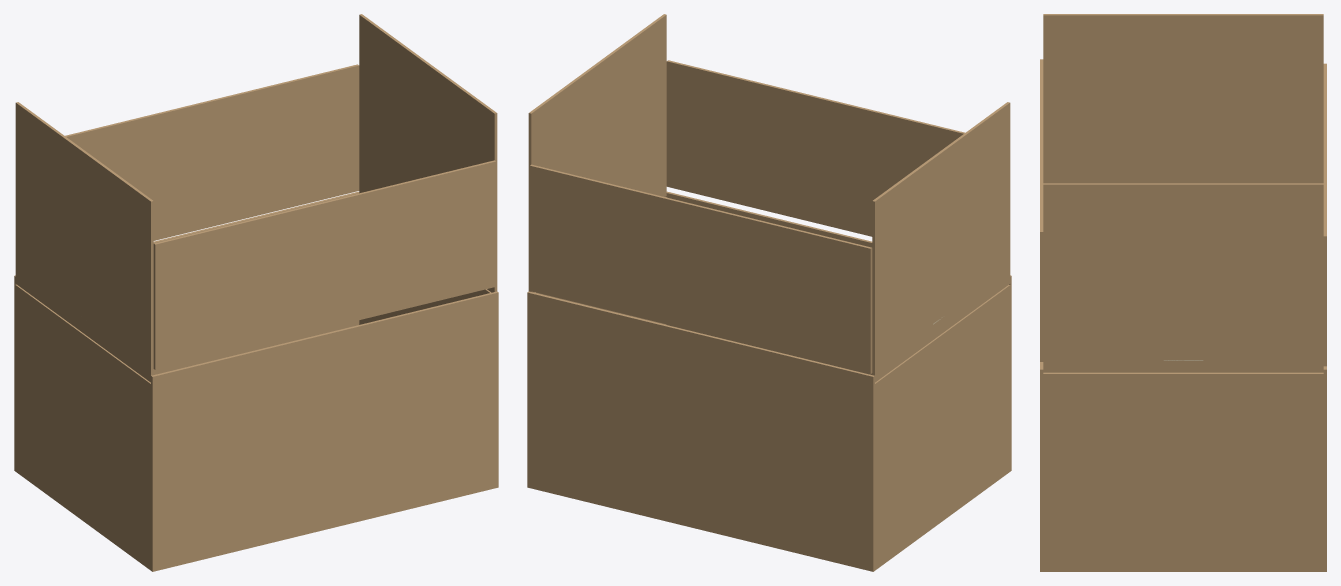
Rendered from carton-template.glb.
The picture shows the model from 3 angles, left to right: view 1: azimuth 30°, elevation 25°; view 2: azimuth 150°, elevation 25°; view 3: azimuth 270°, elevation 25°; orthographic projection. The views are drawn at different scales.
Parts seen in each view (by area): view 1: TCAS_concept_case_longwall-1, TCAS_concept_flap_y_minus, TCAS_concept_flap_y_plus, TCAS_concept_flap_x_minus, TCAS_concept_case_endwall-1, TCAS_concept_flap_x_plus, TCAS_concept_case_base, TCAS_concept_case_longwall1, TCAS_concept_case_endwall1; view 2: TCAS_concept_case_longwall1, TCAS_concept_flap_y_plus, TCAS_concept_flap_y_minus, TCAS_concept_flap_x_minus, TCAS_concept_case_endwall-1, TCAS_concept_flap_x_plus, TCAS_concept_case_base, TCAS_concept_case_longwall-1; view 3: TCAS_concept_case_endwall1, TCAS_concept_flap_x_plus, TCAS_concept_flap_x_minus, TCAS_concept_case_base, TCAS_concept_flap_y_plus, TCAS_concept_flap_y_minus, TCAS_concept_case_longwall-1, TCAS_concept_case_longwall1.
Boxes of the visible parts, bbox=[...] form: TCAS_concept_case_longwall-1: bbox=[151, 291, 498, 567]; TCAS_concept_flap_y_minus: bbox=[153, 160, 495, 369]; TCAS_concept_flap_y_plus: bbox=[65, 64, 359, 240]; TCAS_concept_flap_x_minus: bbox=[15, 102, 153, 382]; TCAS_concept_case_endwall-1: bbox=[15, 285, 150, 566]; TCAS_concept_flap_x_plus: bbox=[359, 14, 497, 292]; TCAS_concept_case_base: bbox=[14, 467, 498, 571]; TCAS_concept_case_longwall1: bbox=[14, 191, 359, 467]; TCAS_concept_case_endwall1: bbox=[359, 289, 491, 324]; TCAS_concept_case_longwall1: bbox=[527, 291, 874, 567]; TCAS_concept_flap_y_plus: bbox=[530, 164, 872, 373]; TCAS_concept_flap_y_minus: bbox=[666, 60, 964, 236]; TCAS_concept_flap_x_minus: bbox=[872, 102, 1010, 382]; TCAS_concept_case_endwall-1: bbox=[875, 285, 1010, 566]; TCAS_concept_flap_x_plus: bbox=[528, 14, 666, 292]; TCAS_concept_case_base: bbox=[527, 467, 1011, 571]; TCAS_concept_case_longwall-1: bbox=[665, 191, 1011, 467]; TCAS_concept_case_endwall1: bbox=[1043, 372, 1323, 567]; TCAS_concept_flap_x_plus: bbox=[1043, 183, 1323, 372]; TCAS_concept_flap_x_minus: bbox=[1043, 14, 1323, 183]; TCAS_concept_case_base: bbox=[1040, 567, 1326, 571]; TCAS_concept_flap_y_plus: bbox=[1323, 63, 1326, 366]; TCAS_concept_flap_y_minus: bbox=[1040, 59, 1043, 361]; TCAS_concept_case_longwall-1: bbox=[1040, 362, 1043, 567]; TCAS_concept_case_longwall1: bbox=[1323, 366, 1326, 567].
Bounding box in the file's own units: 0.52 × 0.536 × 0.36.
